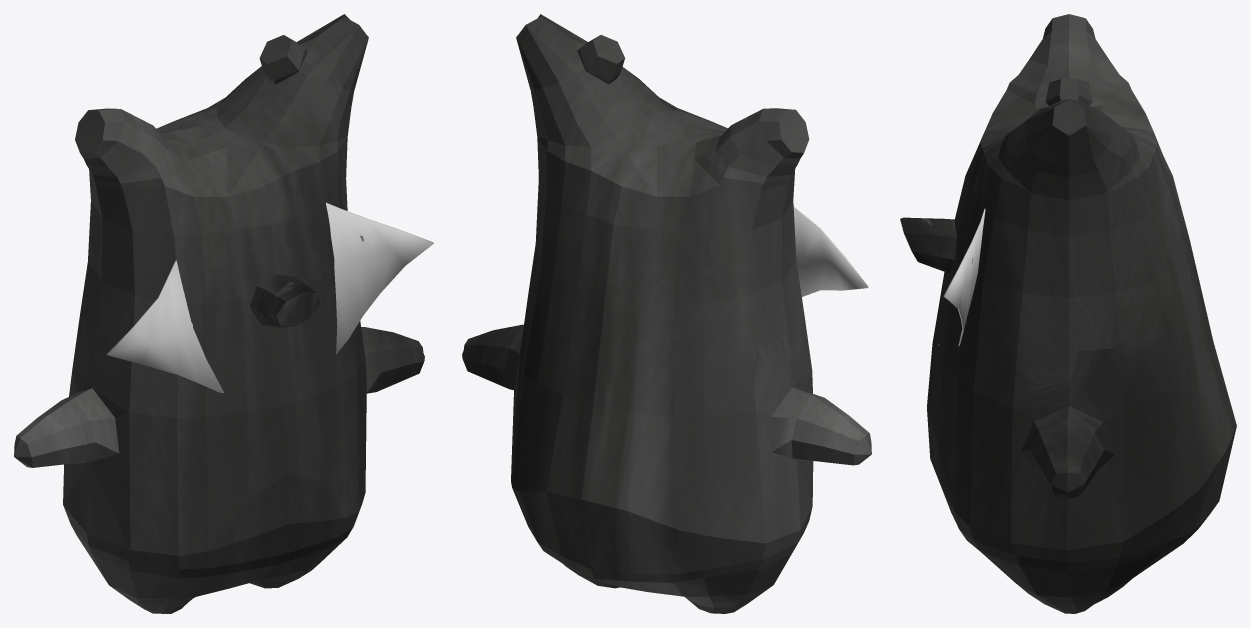
Rendered from frame_0037.obj.
3 renders of one model, left to right at view 1: azimuth 30°, elevation 25°; view 2: azimuth 150°, elevation 25°; view 3: azimuth 270°, elevation 25°, orthographic.
Parts seen in each view (by area): view 1: korok, leaf, nose; view 2: korok, leaf; view 3: korok, nose, leaf.
Part boxes in pixels (x1,y1,x2,y2): korok: (14,14,424,613); leaf: (106,202,433,394); nose: (250,274,319,327); korok: (462,14,871,613); leaf: (793,206,868,296); korok: (927,14,1236,613); nose: (900,217,956,272); leaf: (938,208,985,346).
Size of the model in its own units: 1.77 by 2.27 by 1.27.
